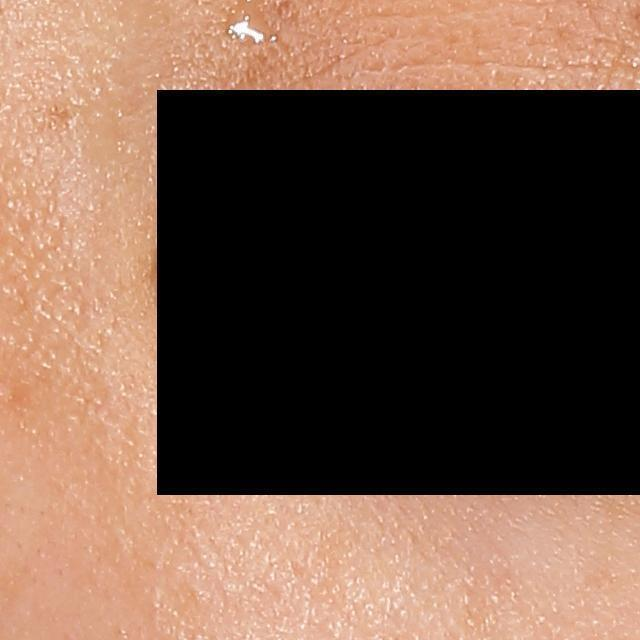comedo: (1, 384, 23, 406)
